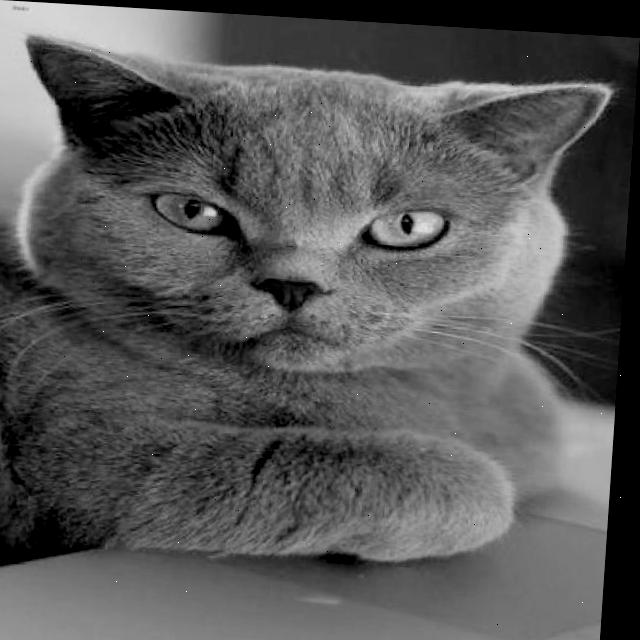Cat: (0, 33, 612, 583)
